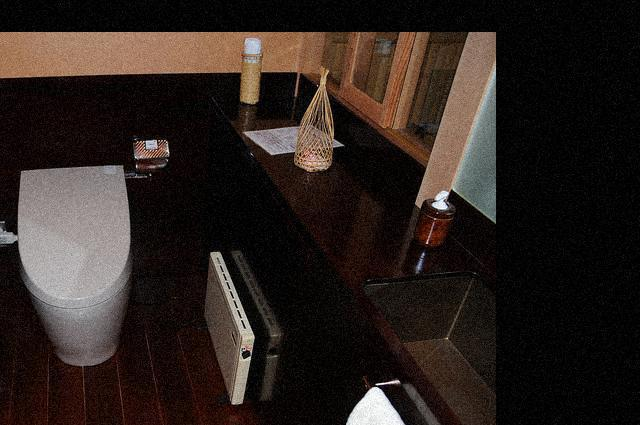Lavamanos: (368, 251, 495, 425)
Sanitario: (21, 169, 142, 370)
